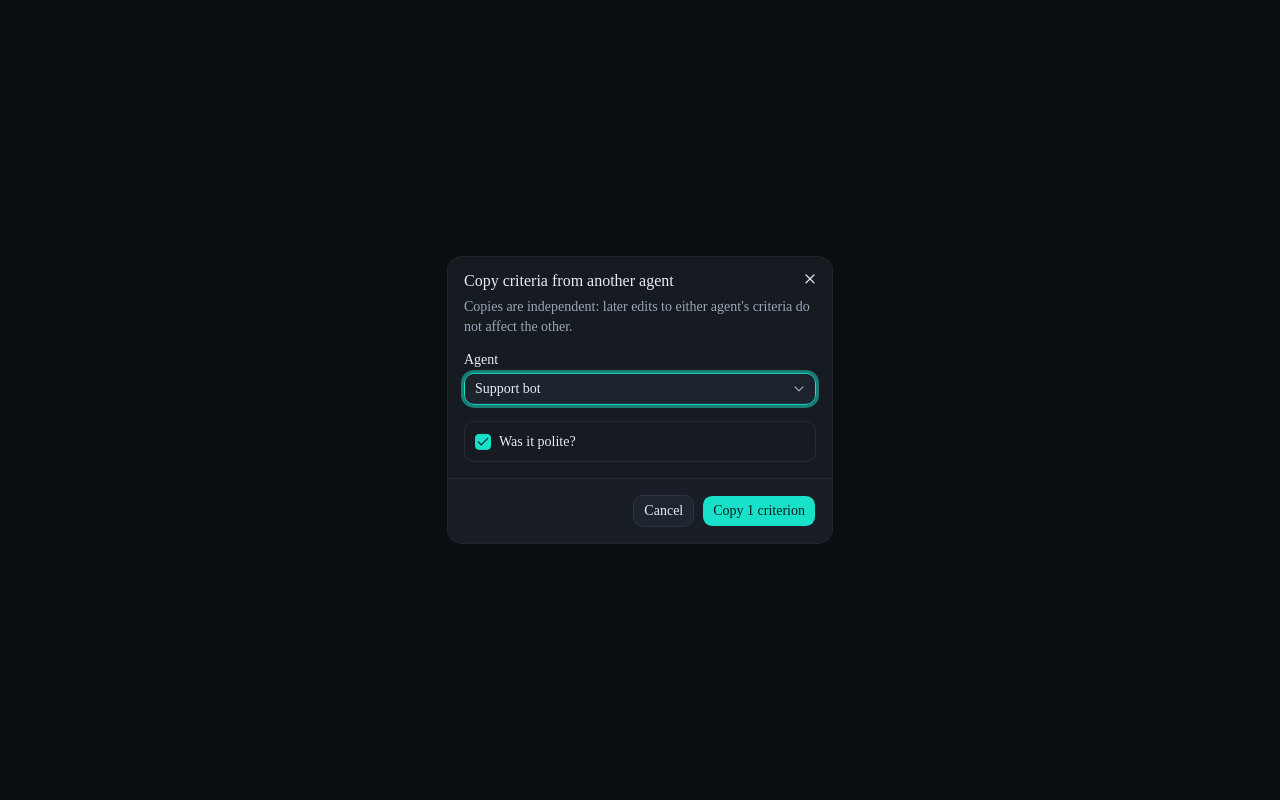
Test: CopyCriteriaDialog › disables copying when nothing is checked
Click the checkbox named "Was it polite?" at [483, 442], box [475, 434, 491, 450]
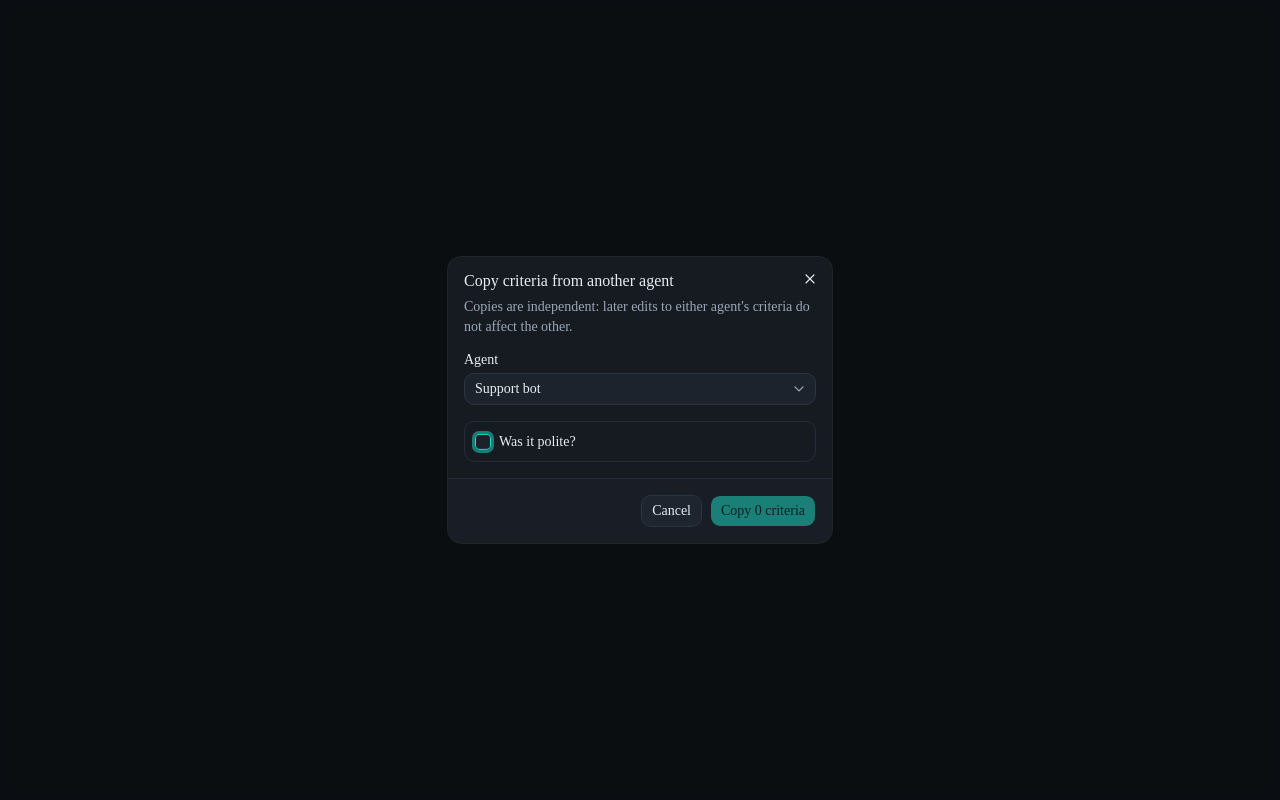
Now the button "Copy 0 criteria" is disabled, box [710, 495, 816, 527]
